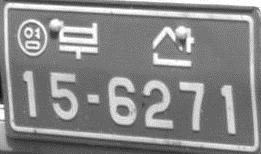-: (84, 92, 101, 106)
1: (217, 82, 239, 136), (18, 69, 40, 119)
2: (141, 78, 173, 130)
5: (47, 70, 80, 121)
6: (107, 74, 138, 126)
7: (178, 80, 205, 133)
부산_D: (57, 18, 196, 69)
영: (16, 17, 48, 57)
